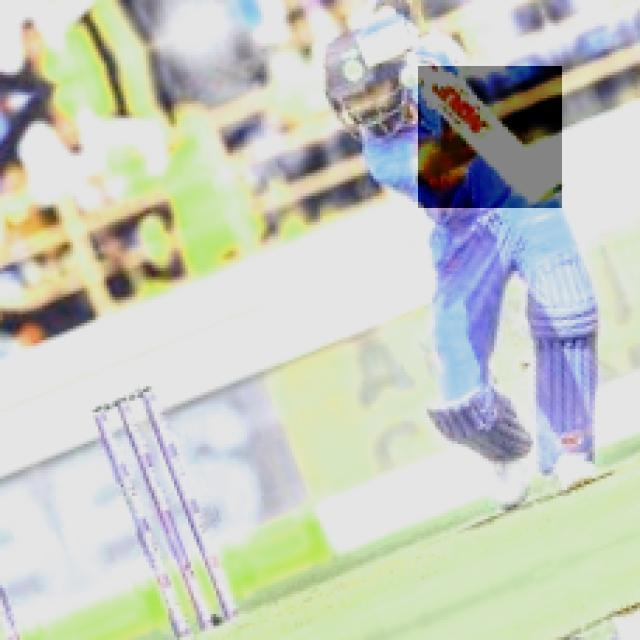bat: (420, 65, 563, 209)
toe: (527, 176, 565, 207)
